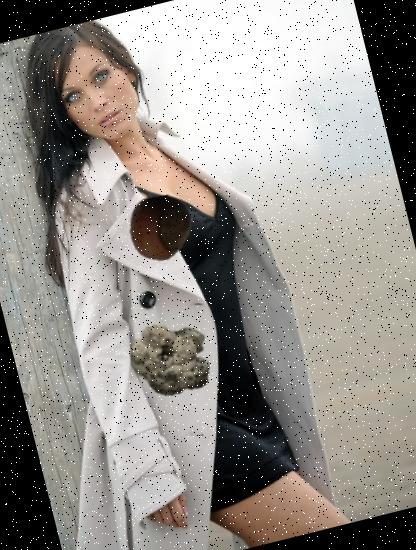Cauliflower: (120, 306, 227, 412)
Nut: (122, 189, 202, 268)
